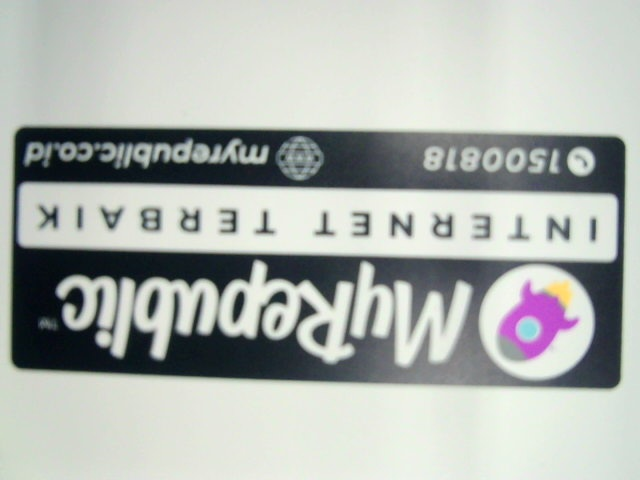BD_MyRepublic: (4, 117, 629, 390)
